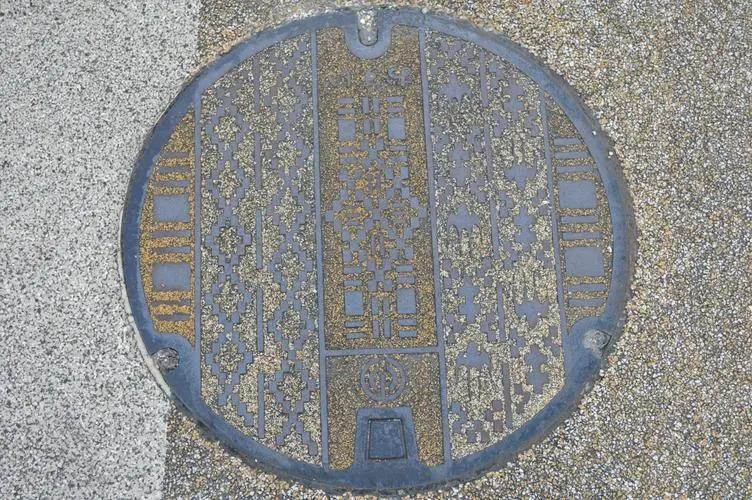wellcover: (125, 8, 631, 489)
